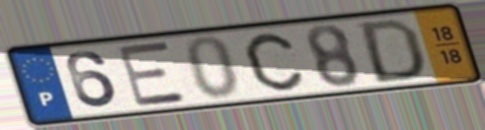0: (182, 33, 247, 103)
6: (64, 50, 121, 110)
8: (304, 22, 364, 90)
C: (241, 31, 307, 93)
D: (357, 16, 427, 86)
E: (114, 39, 191, 109)
